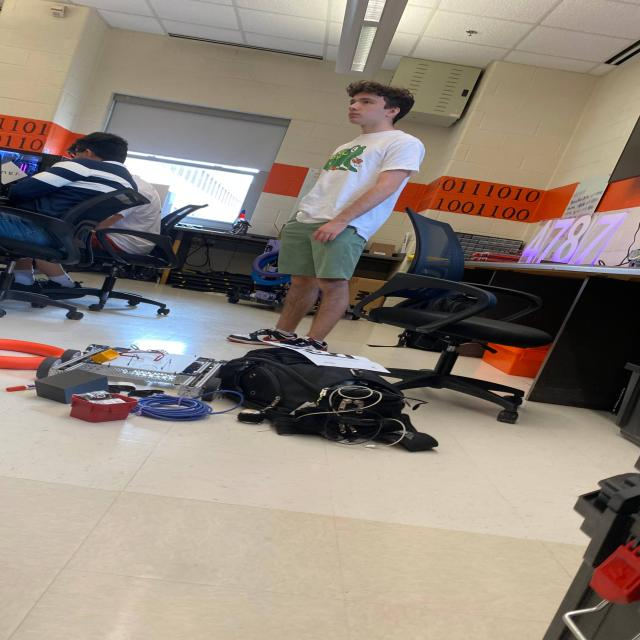yellow-specimen: (90, 348, 119, 363)
